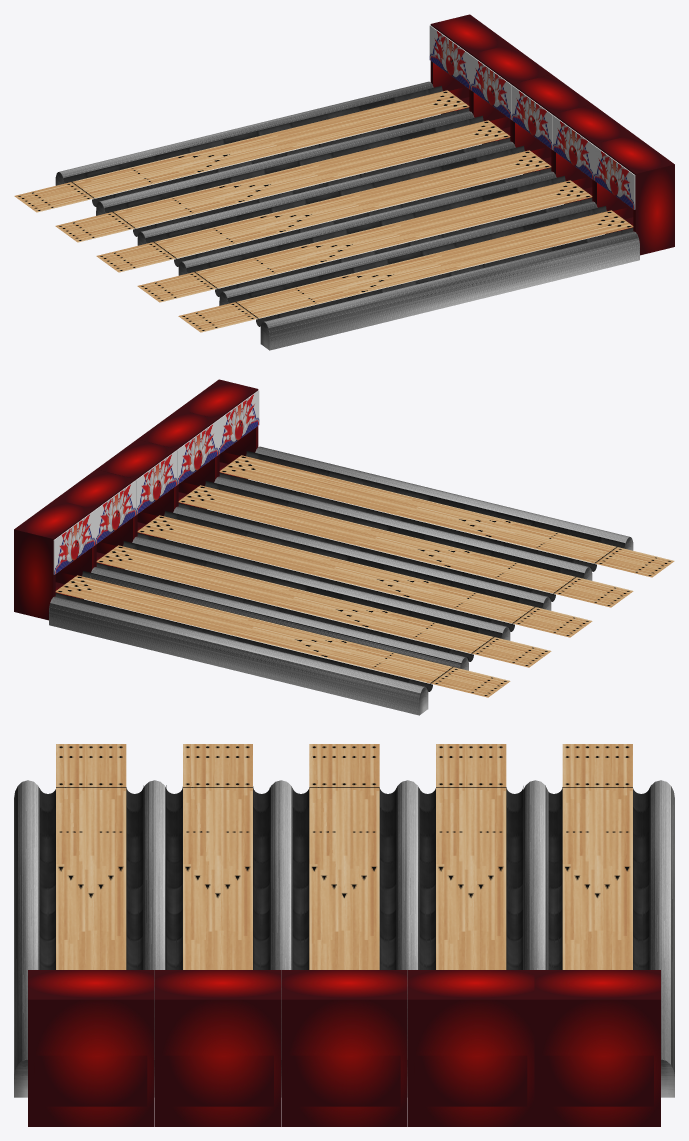
Rendered from playable_lane.obj.
The picture shows the model from 3 angles, top to bottom: view 1: azimuth 30°, elevation 25°; view 2: azimuth 150°, elevation 25°; view 3: azimuth 270°, elevation 25°; orthographic projection. The views are drawn at different scales.
Visible parts, largest first — view 1: Sphere; view 2: Sphere; view 3: Sphere.
Boxes of the visible parts, bbox=[...] form: Sphere: bbox=[14, 14, 674, 350]; Sphere: bbox=[14, 379, 674, 715]; Sphere: bbox=[14, 744, 674, 1126].
Size of the model in its own units: 59 by 10.04 by 47.04.
Materials: 6 (6 with a texture image).
